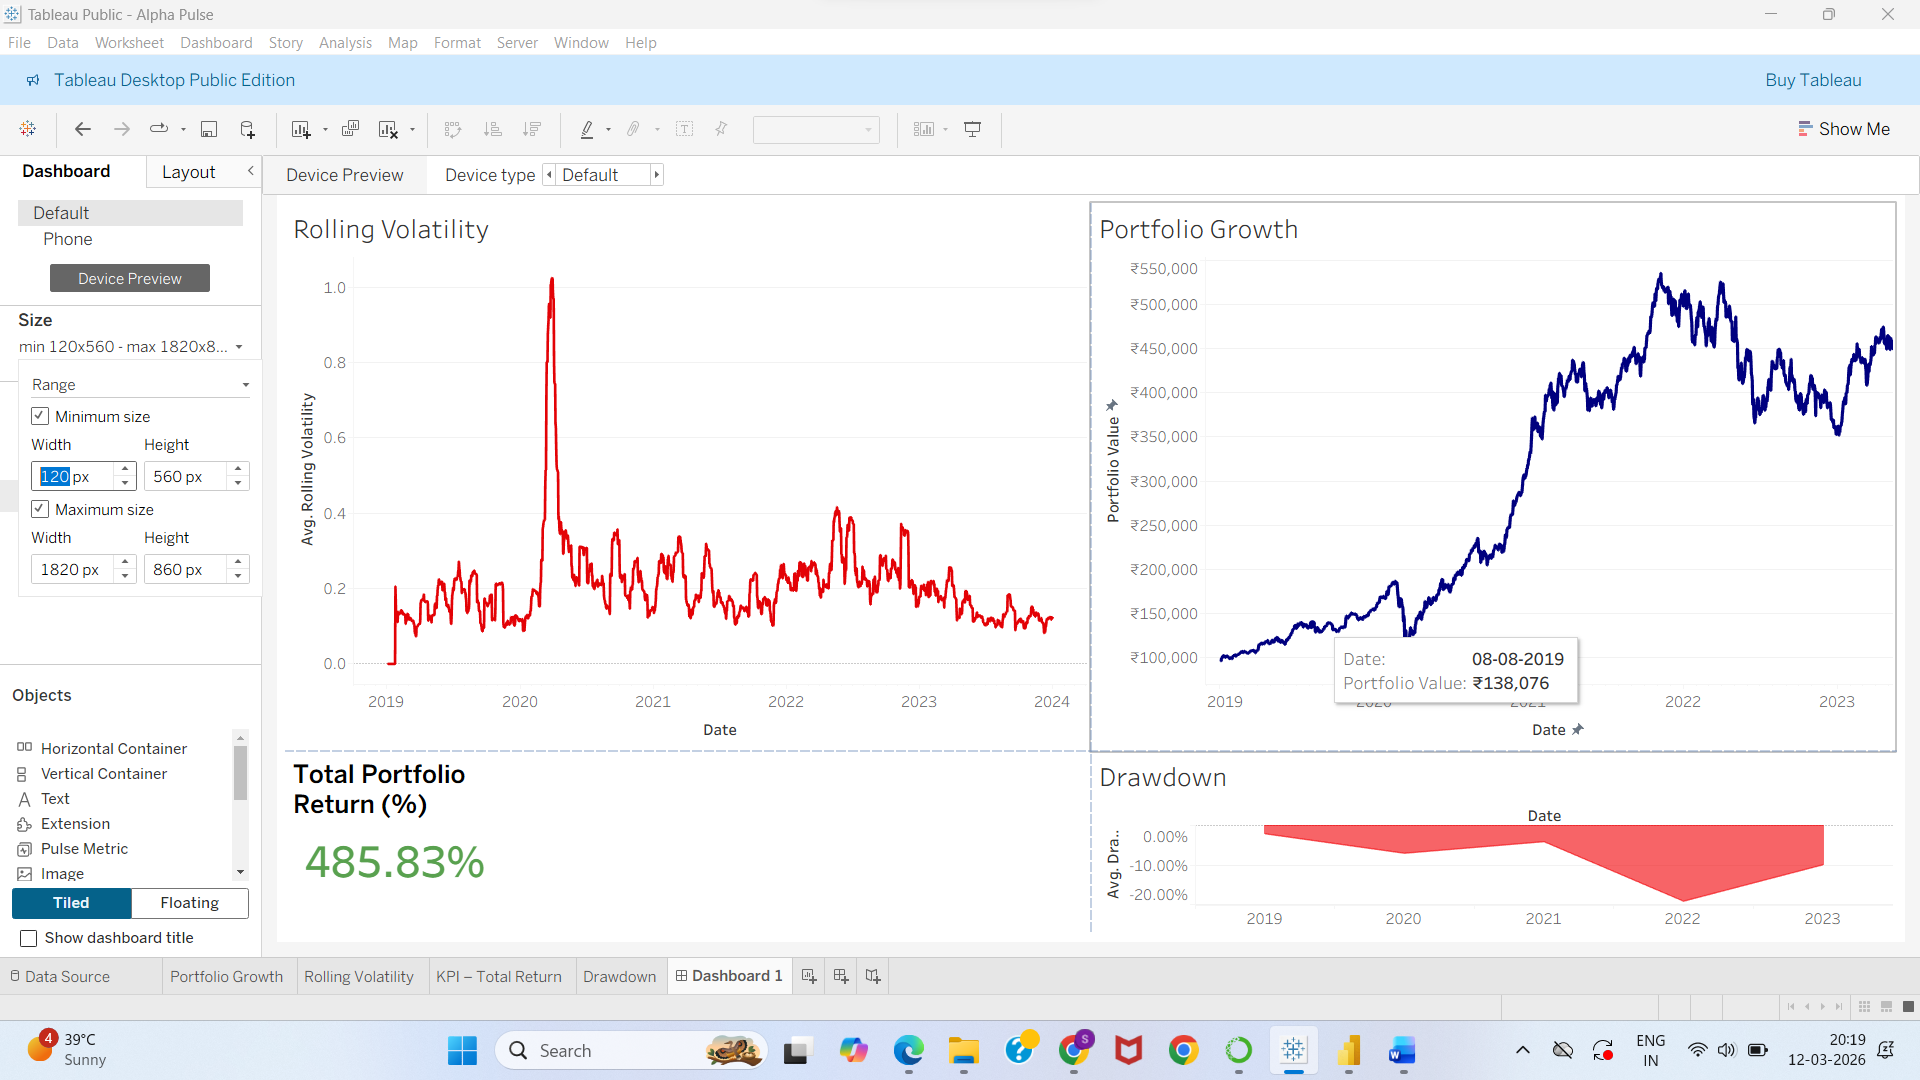

The page's visual inventory and layout, read from the dashboard file:
{"tool":"tableau","page":{"name":"Dashboard 1","canvas":[650,860],"ordinal":0},"visuals":[{"type":"worksheet","title":"Rolling Volatility","mark":"Line","rows":["Rolling Volatility"],"cols":["Date"],"box":[8,8.6,317,632.1]},{"type":"worksheet","title":"Portfolio Growth","mark":"Line","rows":["Portfolio Value"],"cols":["Date"],"box":[325,8.6,317,632.1]},{"type":"worksheet","title":"KPI – Total Return","mark":"Automatic","box":[8,640.7,317,210.7]},{"type":"worksheet","title":"Drawdown","mark":"Area","rows":["Drawdown"],"cols":["Date"],"box":[325,640.7,317,210.7]}]}

Visuals, with their boxes on the page's 650x860 design canvas (x1, y1, x2, y2). These are canvas units, not pixel positions in the 1920x1080 screenshot, which may show the page scaled, cropped or inside an application window:
"Rolling Volatility" worksheet (Line marks): crop(8, 9, 325, 641)
"Portfolio Growth" worksheet (Line marks): crop(325, 9, 642, 641)
"KPI – Total Return" worksheet: crop(8, 641, 325, 851)
"Drawdown" worksheet (Area marks): crop(325, 641, 642, 851)
